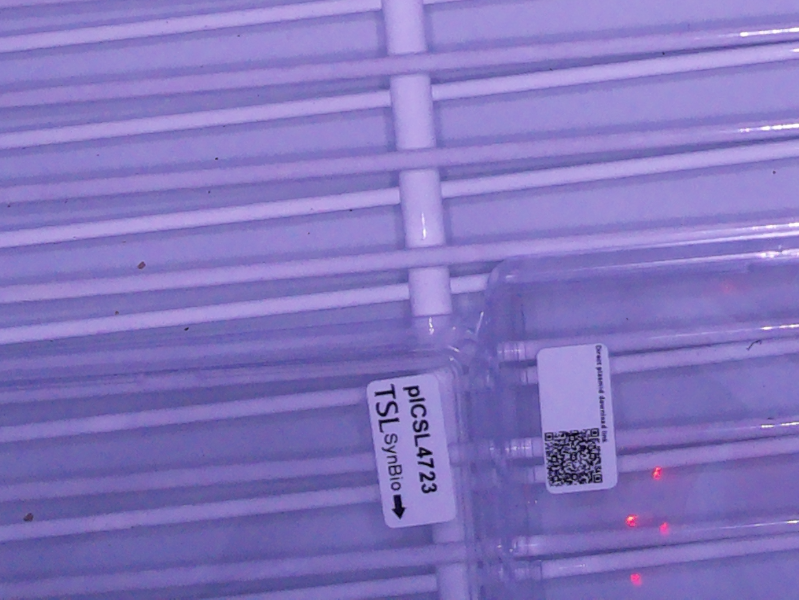plate: (1, 309, 506, 600), (481, 248, 799, 600)
